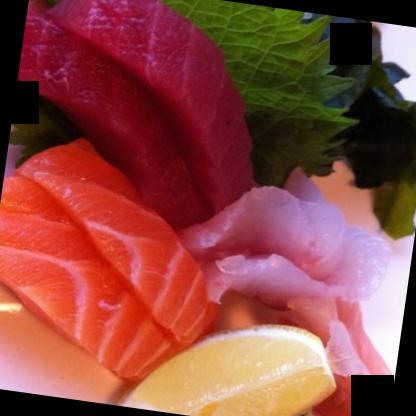salmon: (0, 131, 244, 387)
tuna: (0, 0, 285, 237)
